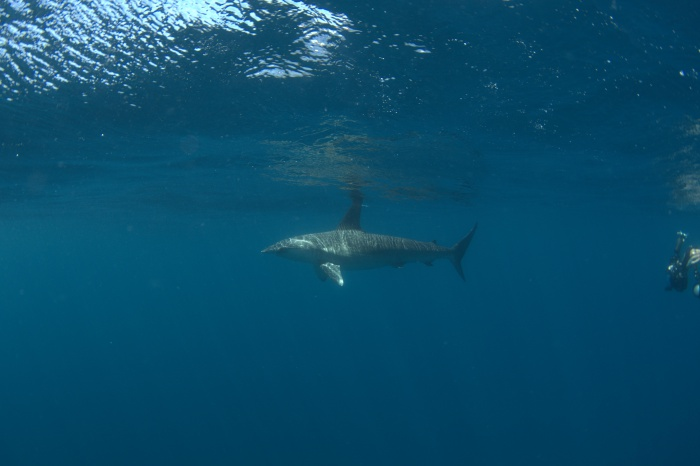Hammer: (235, 189, 473, 300)
